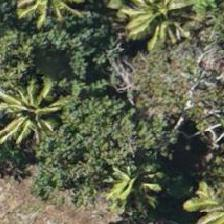coconut_tree: (0, 63, 58, 153), (176, 163, 223, 223)
